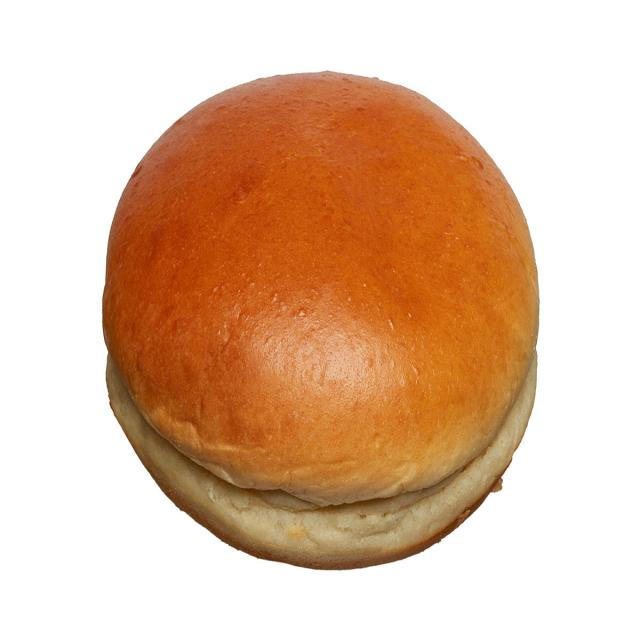Bun: (96, 57, 541, 574)
